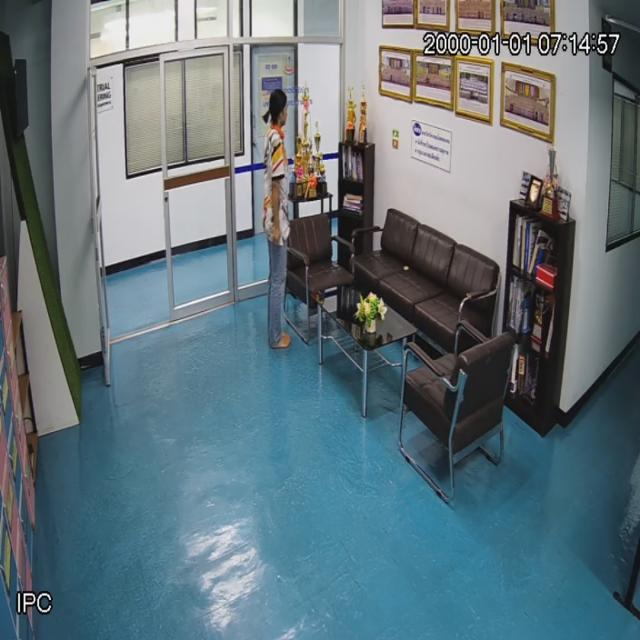normal: (258, 87, 307, 375)
